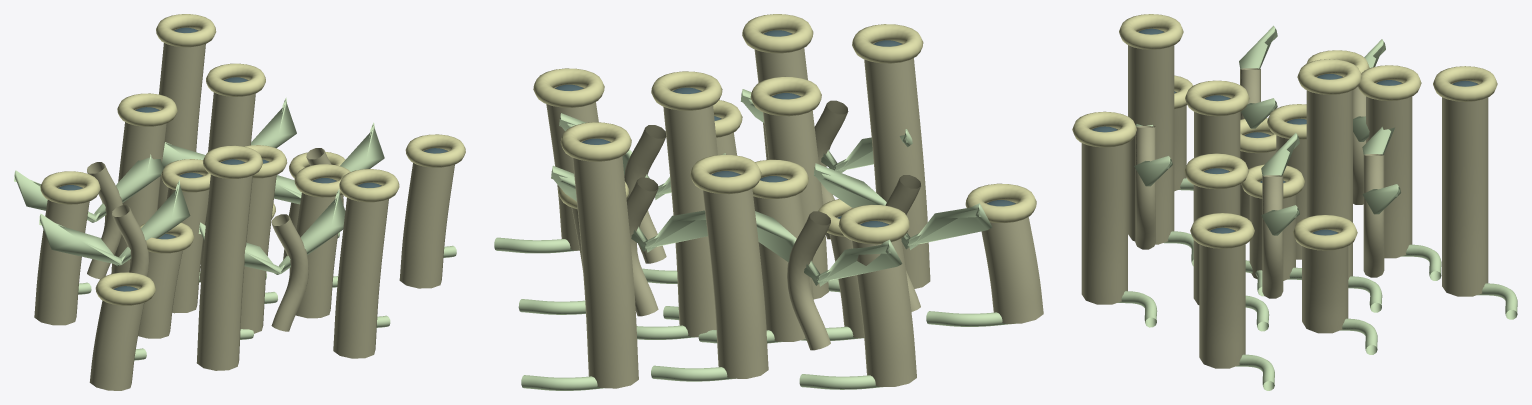
The model's file is bio_thermal_colony_22_near.glb.
The picture shows the model from 3 angles, left to right: view 1: azimuth 30°, elevation 25°; view 2: azimuth 150°, elevation 25°; view 3: azimuth 270°, elevation 25°; orthographic projection. The views are drawn at different scales.
Parts seen in each view (by area): view 1: Chimney biofilm.007, Chimney biofilm.010, Chimney biofilm.013, Chimney biofilm.009, Chimney biofilm.011, Chimney biofilm.012, Secondary fan lobe.008, Chimney biofilm.002, Chimney biofilm.006, Chimney biofilm.005, Chimney biofilm.004, Chimney biofilm.001 (+21 smaller); view 2: Chimney biofilm.011, Chimney biofilm.006, Chimney biofilm.007, Chimney biofilm.003, Chimney biofilm.009, Chimney biofilm.012, Chimney biofilm.001, Chimney biofilm.002, Secondary fan lobe.008, Branching support.001, Secondary fan lobe.002, Open vent rim.007 (+28 smaller); view 3: Chimney biofilm.011, Chimney biofilm.010, Chimney biofilm.007, Chimney biofilm.003, Chimney biofilm.013, Chimney biofilm.006, Chimney biofilm.008, Branching support.003, Branching support, Branching support.002, Chimney biofilm.002, Open vent rim.013 (+33 smaller).
Boxes of the visible parts, box(x1,y1,x2,y2) form: Chimney biofilm.007: box(196, 161, 252, 370); Chimney biofilm.010: box(333, 185, 388, 358); Chimney biofilm.013: box(399, 150, 454, 288); Chimney biofilm.009: box(34, 187, 89, 325); Chimney biofilm.011: box(157, 29, 205, 209); Chimney biofilm.012: box(89, 288, 144, 390); Secondary fan lobe.008: box(39, 180, 190, 265); Chimney biofilm.002: box(240, 160, 276, 333); Chimney biofilm.006: box(111, 109, 166, 273); Chimney biofilm.005: box(295, 180, 343, 318); Chimney biofilm.004: box(138, 236, 182, 338); Chimney biofilm.001: box(166, 174, 209, 313); Chimney biofilm.011: box(572, 140, 638, 388); Chimney biofilm.006: box(702, 173, 768, 378); Chimney biofilm.007: box(864, 42, 930, 288); Chimney biofilm.003: box(663, 90, 717, 337); Chimney biofilm.009: box(851, 223, 916, 386); Chimney biofilm.012: box(981, 202, 1043, 323); Chimney biofilm.001: box(753, 178, 813, 341); Chimney biofilm.002: box(763, 95, 828, 299); Secondary fan lobe.008: box(813, 163, 992, 249); Branching support.001: box(787, 211, 830, 350); Secondary fan lobe.002: box(755, 211, 902, 286); Open vent rim.007: box(852, 24, 923, 63); Chimney biofilm.011: box(1442, 83, 1488, 296); Chimney biofilm.010: box(1081, 128, 1127, 304); Chimney biofilm.007: box(1128, 31, 1174, 244); Chimney biofilm.003: box(1306, 76, 1352, 279); Chimney biofilm.013: box(1199, 230, 1245, 368); Chimney biofilm.006: box(1366, 82, 1412, 258); Chimney biofilm.008: box(1302, 232, 1348, 333); Branching support.003: box(1363, 154, 1384, 277); Branching support: box(1262, 175, 1283, 298); Branching support.002: box(1135, 126, 1155, 249); Chimney biofilm.002: box(1194, 97, 1240, 214); Open vent rim.013: box(1190, 213, 1254, 248).
Bounding box in the file's own units: 2.2 × 1.07 × 1.92.
